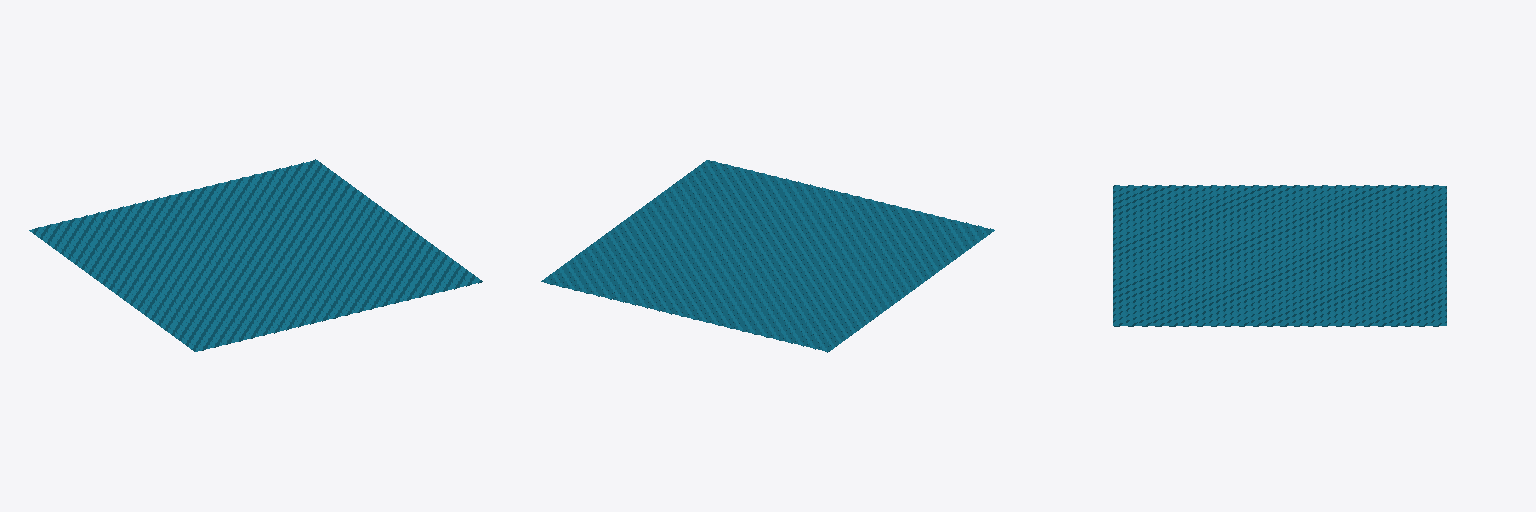
3 views of the same model, side by side, from view 1: azimuth 30°, elevation 25°; view 2: azimuth 150°, elevation 25°; view 3: azimuth 270°, elevation 25° (orthographic).
Parts seen in each view (by area): view 1: Plane_Plane.008; view 2: Plane_Plane.008; view 3: Plane_Plane.008.
Boxes of the visible parts, x1=… form: Plane_Plane.008: x1=29, y1=159, x2=482, y2=351; Plane_Plane.008: x1=541, y1=160, x2=994, y2=352; Plane_Plane.008: x1=1113, y1=185, x2=1446, y2=326.
Size of the model in its own units: 60 by 1 by 60.
9 materials, 1 textured.